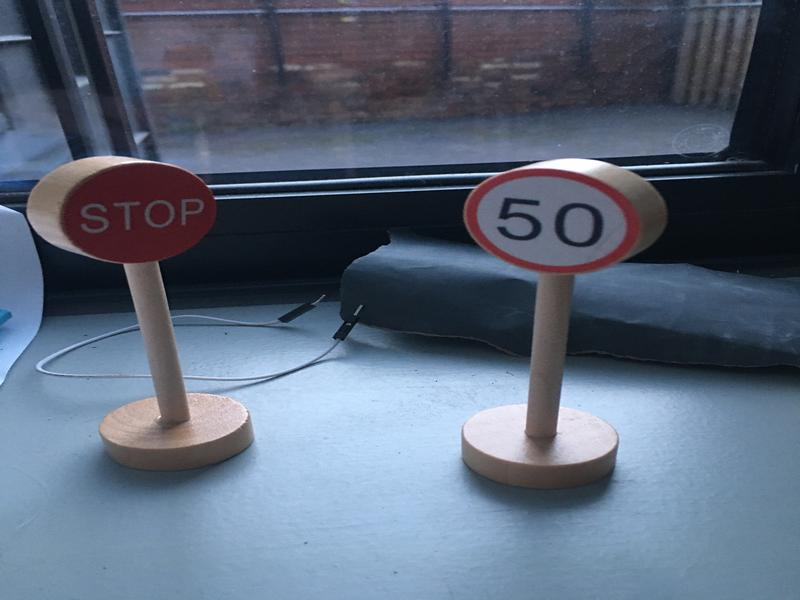Traffic_Sign_50: (464, 170, 640, 277)
Traffic_Sign_Stop: (62, 167, 215, 264)
